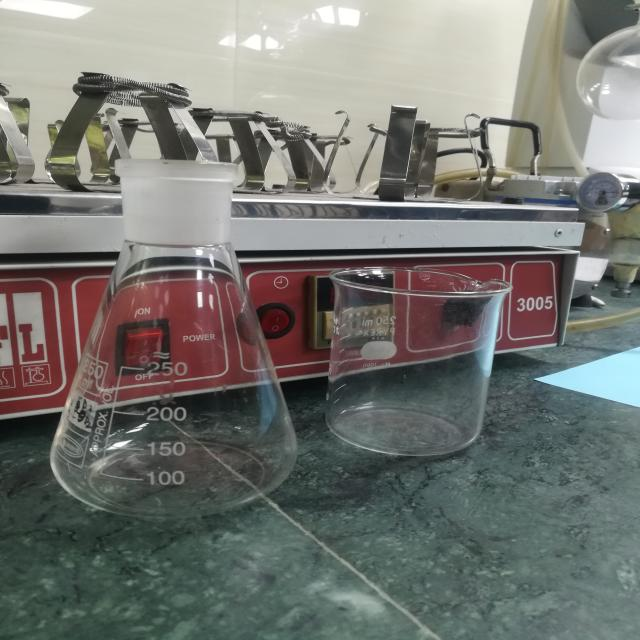Beaker: (304, 242, 542, 475)
Conical_Flask: (20, 140, 308, 536)
